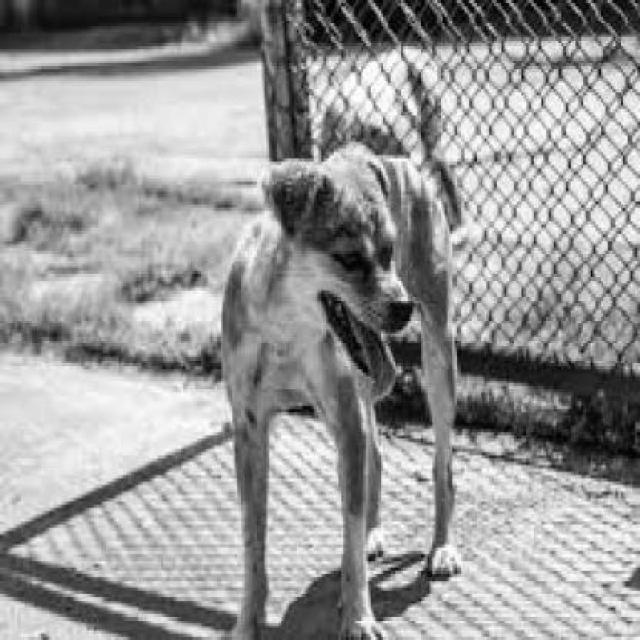Dog: (187, 109, 487, 637)
